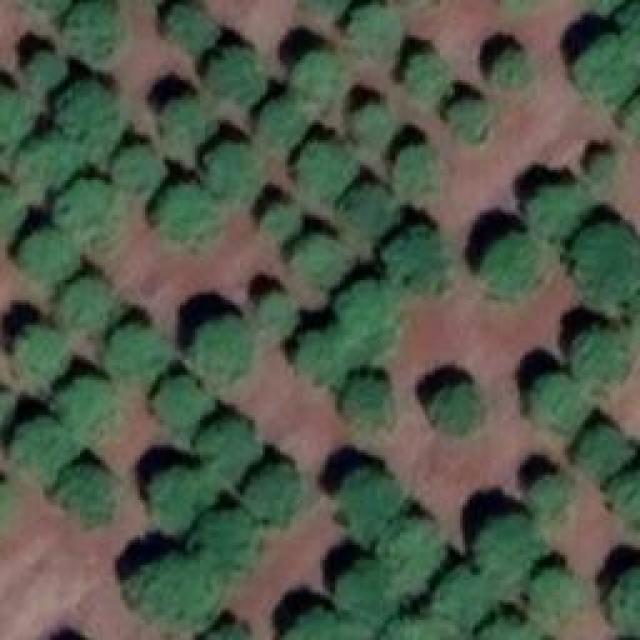Tree: (128, 553, 221, 628), (575, 225, 640, 305), (335, 560, 403, 635), (58, 80, 123, 150), (188, 508, 258, 573), (342, 468, 400, 543), (383, 518, 443, 588), (435, 562, 488, 640), (575, 35, 638, 100), (152, 465, 210, 533), (387, 228, 445, 293), (480, 515, 538, 580), (55, 377, 113, 435), (195, 317, 253, 375), (54, 180, 115, 235), (205, 48, 268, 101), (335, 280, 395, 335), (160, 183, 215, 238), (483, 235, 538, 290), (18, 135, 81, 183), (528, 185, 588, 235), (60, 468, 113, 523), (575, 325, 628, 378), (297, 140, 355, 188), (250, 463, 295, 523), (15, 420, 68, 470), (208, 143, 258, 196), (200, 420, 253, 470), (340, 185, 398, 230), (23, 227, 76, 275), (108, 325, 158, 375), (298, 330, 348, 380), (290, 50, 338, 100), (295, 235, 348, 280), (70, 0, 113, 55), (17, 325, 65, 373), (65, 280, 113, 328), (535, 373, 580, 423), (115, 145, 163, 190), (350, 0, 395, 48), (432, 385, 480, 430), (580, 428, 628, 473), (345, 375, 388, 423), (533, 565, 578, 610), (610, 463, 640, 528), (158, 378, 201, 423), (170, 0, 210, 48), (280, 612, 345, 640), (610, 565, 640, 625), (408, 53, 448, 96), (398, 145, 438, 188), (255, 98, 295, 138), (0, 88, 30, 141), (530, 473, 568, 513), (382, 615, 440, 640), (165, 98, 205, 133), (472, 617, 532, 640), (353, 103, 388, 138), (27, 53, 65, 83), (255, 293, 293, 323), (455, 98, 483, 138), (0, 182, 22, 225), (495, 55, 528, 83), (263, 203, 298, 228), (205, 620, 248, 640), (590, 153, 618, 176)
